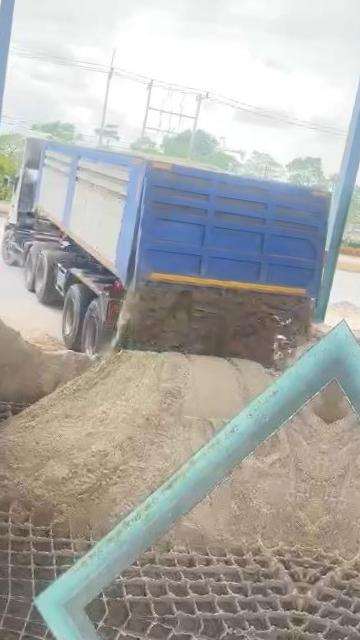sand: (0, 352, 272, 535), (172, 409, 328, 546), (118, 282, 312, 367), (0, 296, 90, 403), (118, 149, 228, 173), (287, 325, 327, 366), (311, 379, 335, 424)
